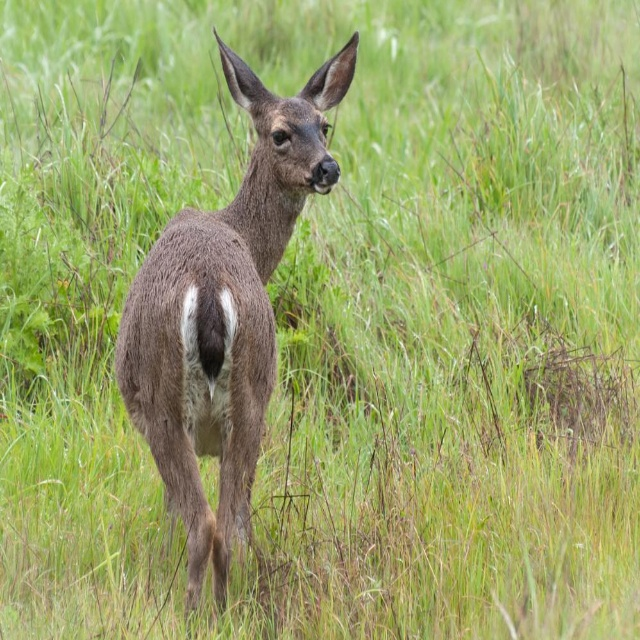Deer: (114, 25, 360, 640)
